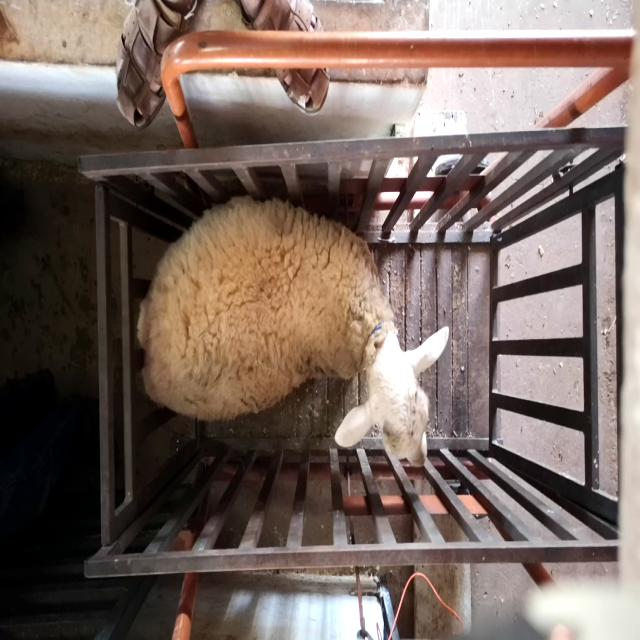sheep: (138, 196, 450, 470)
